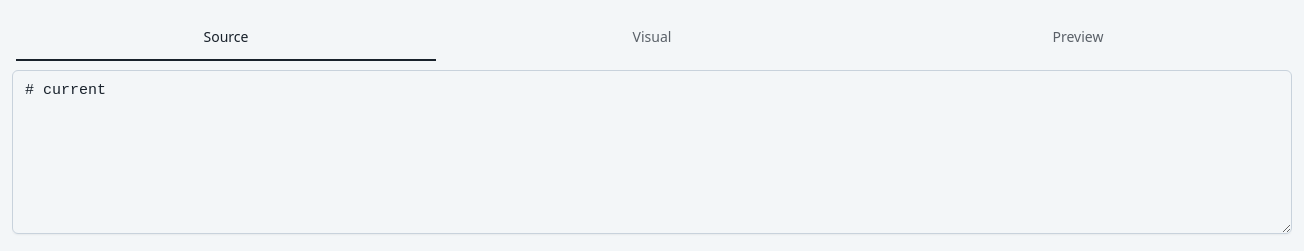
Markdown lifecycle › preserves Preview while adopting a matching staged preview
Step 1. Click the tab "Preview" → (1078, 37), box [867,15,1289,59]
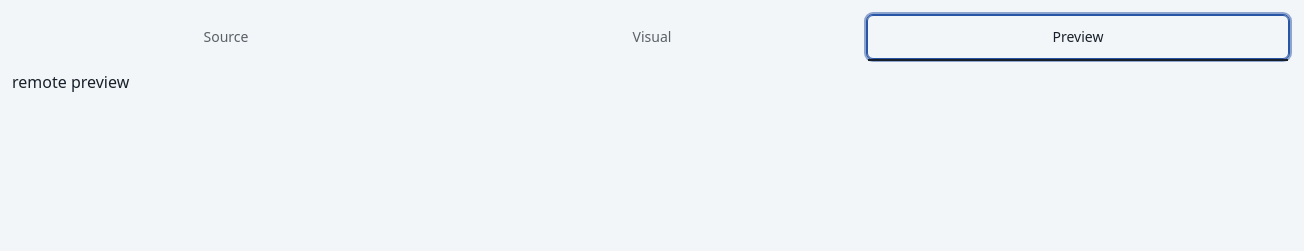
Expected: the text "remote preview" is shown, [12,71,129,93]
